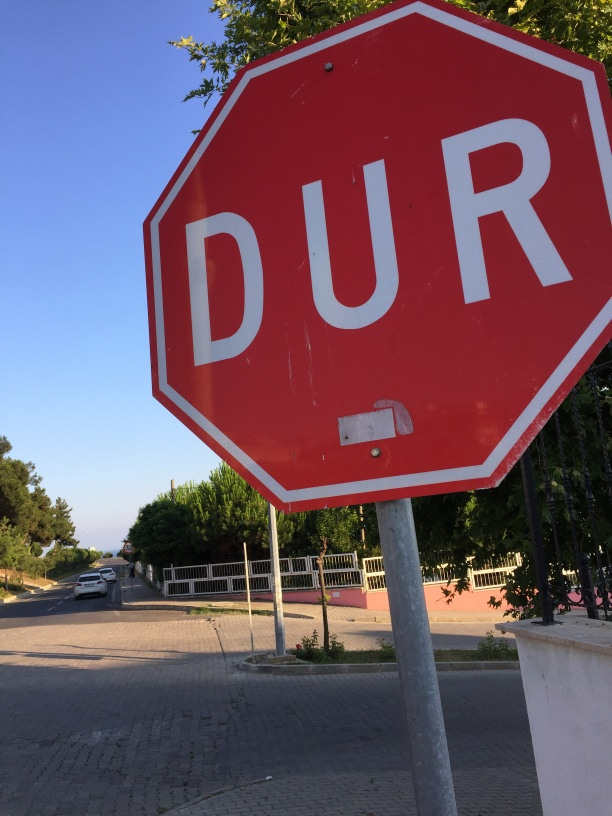arac_dur_isareti: (122, 93, 612, 602)
